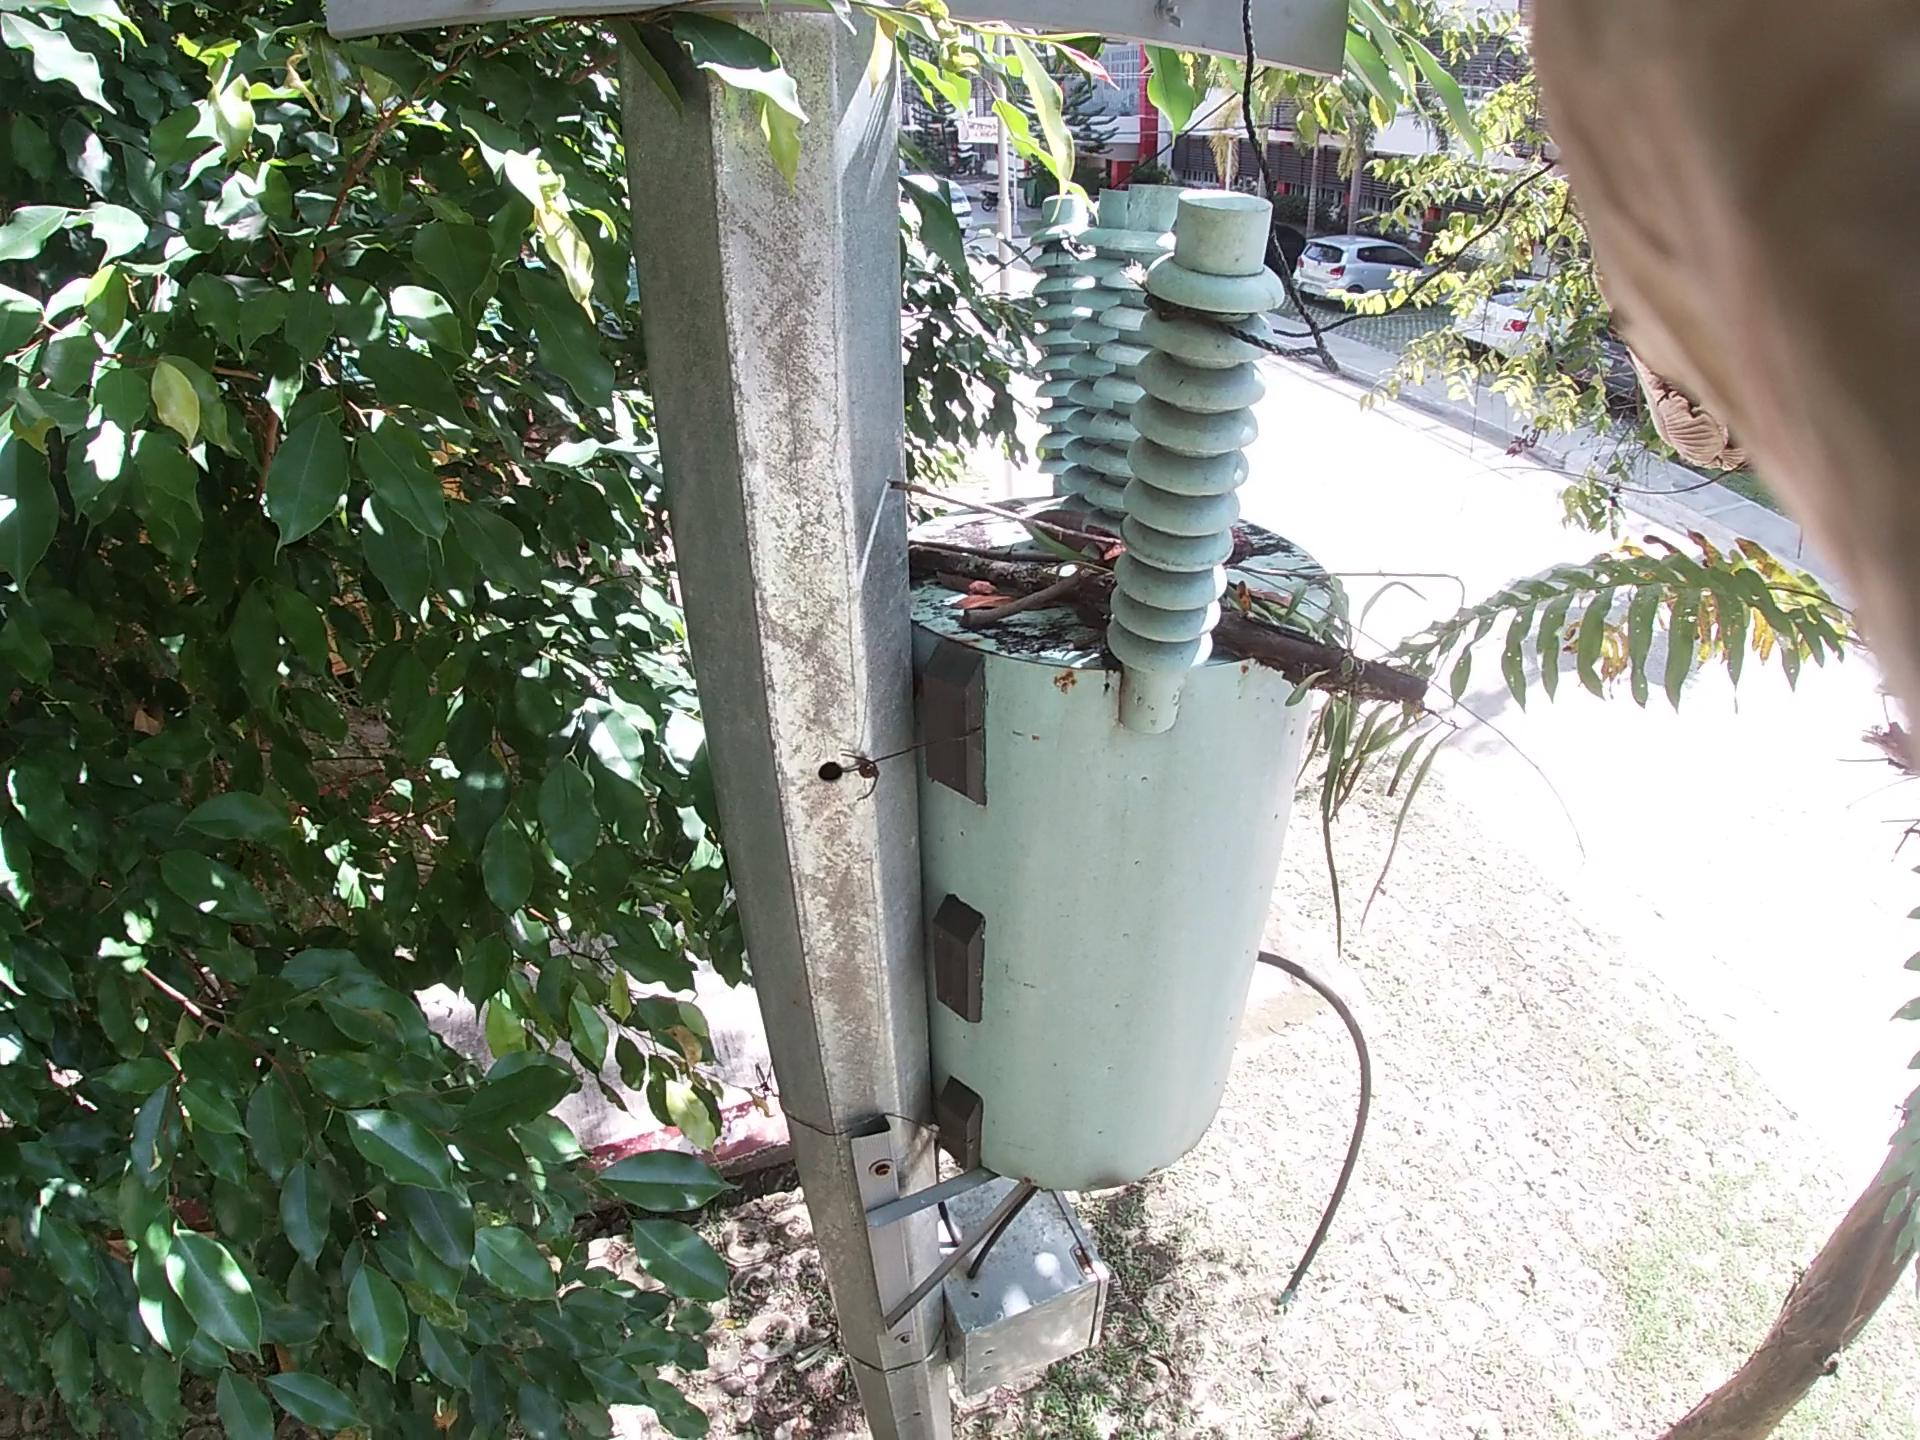branch with leaves: (909, 526, 1429, 731)
leaf: (915, 540, 1045, 626)
mahogany fruit: (1023, 498, 1134, 584)
tree branch: (877, 460, 1596, 725), (940, 597, 1114, 659), (915, 483, 1095, 535)
